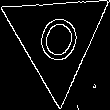O_SW: (29, 6, 85, 71)
